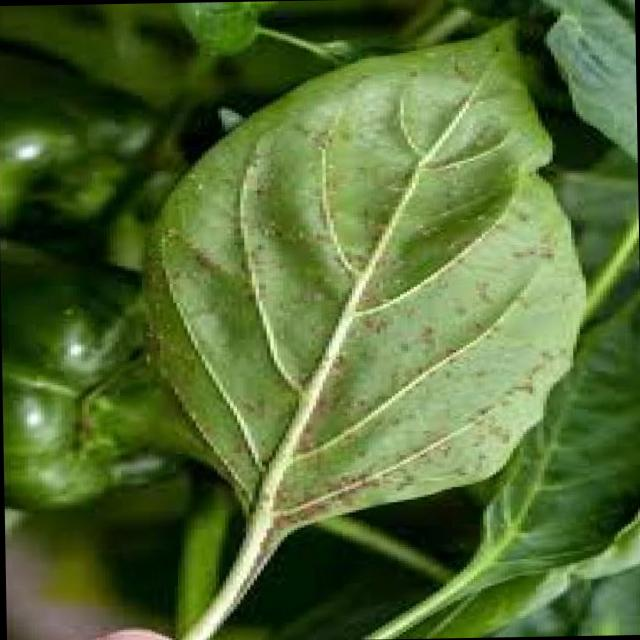aphid: (508, 246, 539, 264), (402, 64, 429, 84), (468, 318, 496, 337), (249, 185, 277, 204), (309, 288, 333, 310), (324, 363, 348, 382), (190, 179, 214, 198), (353, 250, 381, 266), (416, 327, 444, 342), (271, 260, 295, 276), (524, 382, 542, 401), (253, 438, 277, 452), (354, 448, 374, 464), (348, 328, 368, 344), (402, 473, 422, 488), (456, 255, 474, 271), (354, 472, 374, 486), (476, 406, 496, 420), (395, 452, 415, 464), (442, 370, 462, 382), (476, 370, 496, 382), (380, 202, 397, 214), (478, 452, 494, 464)
